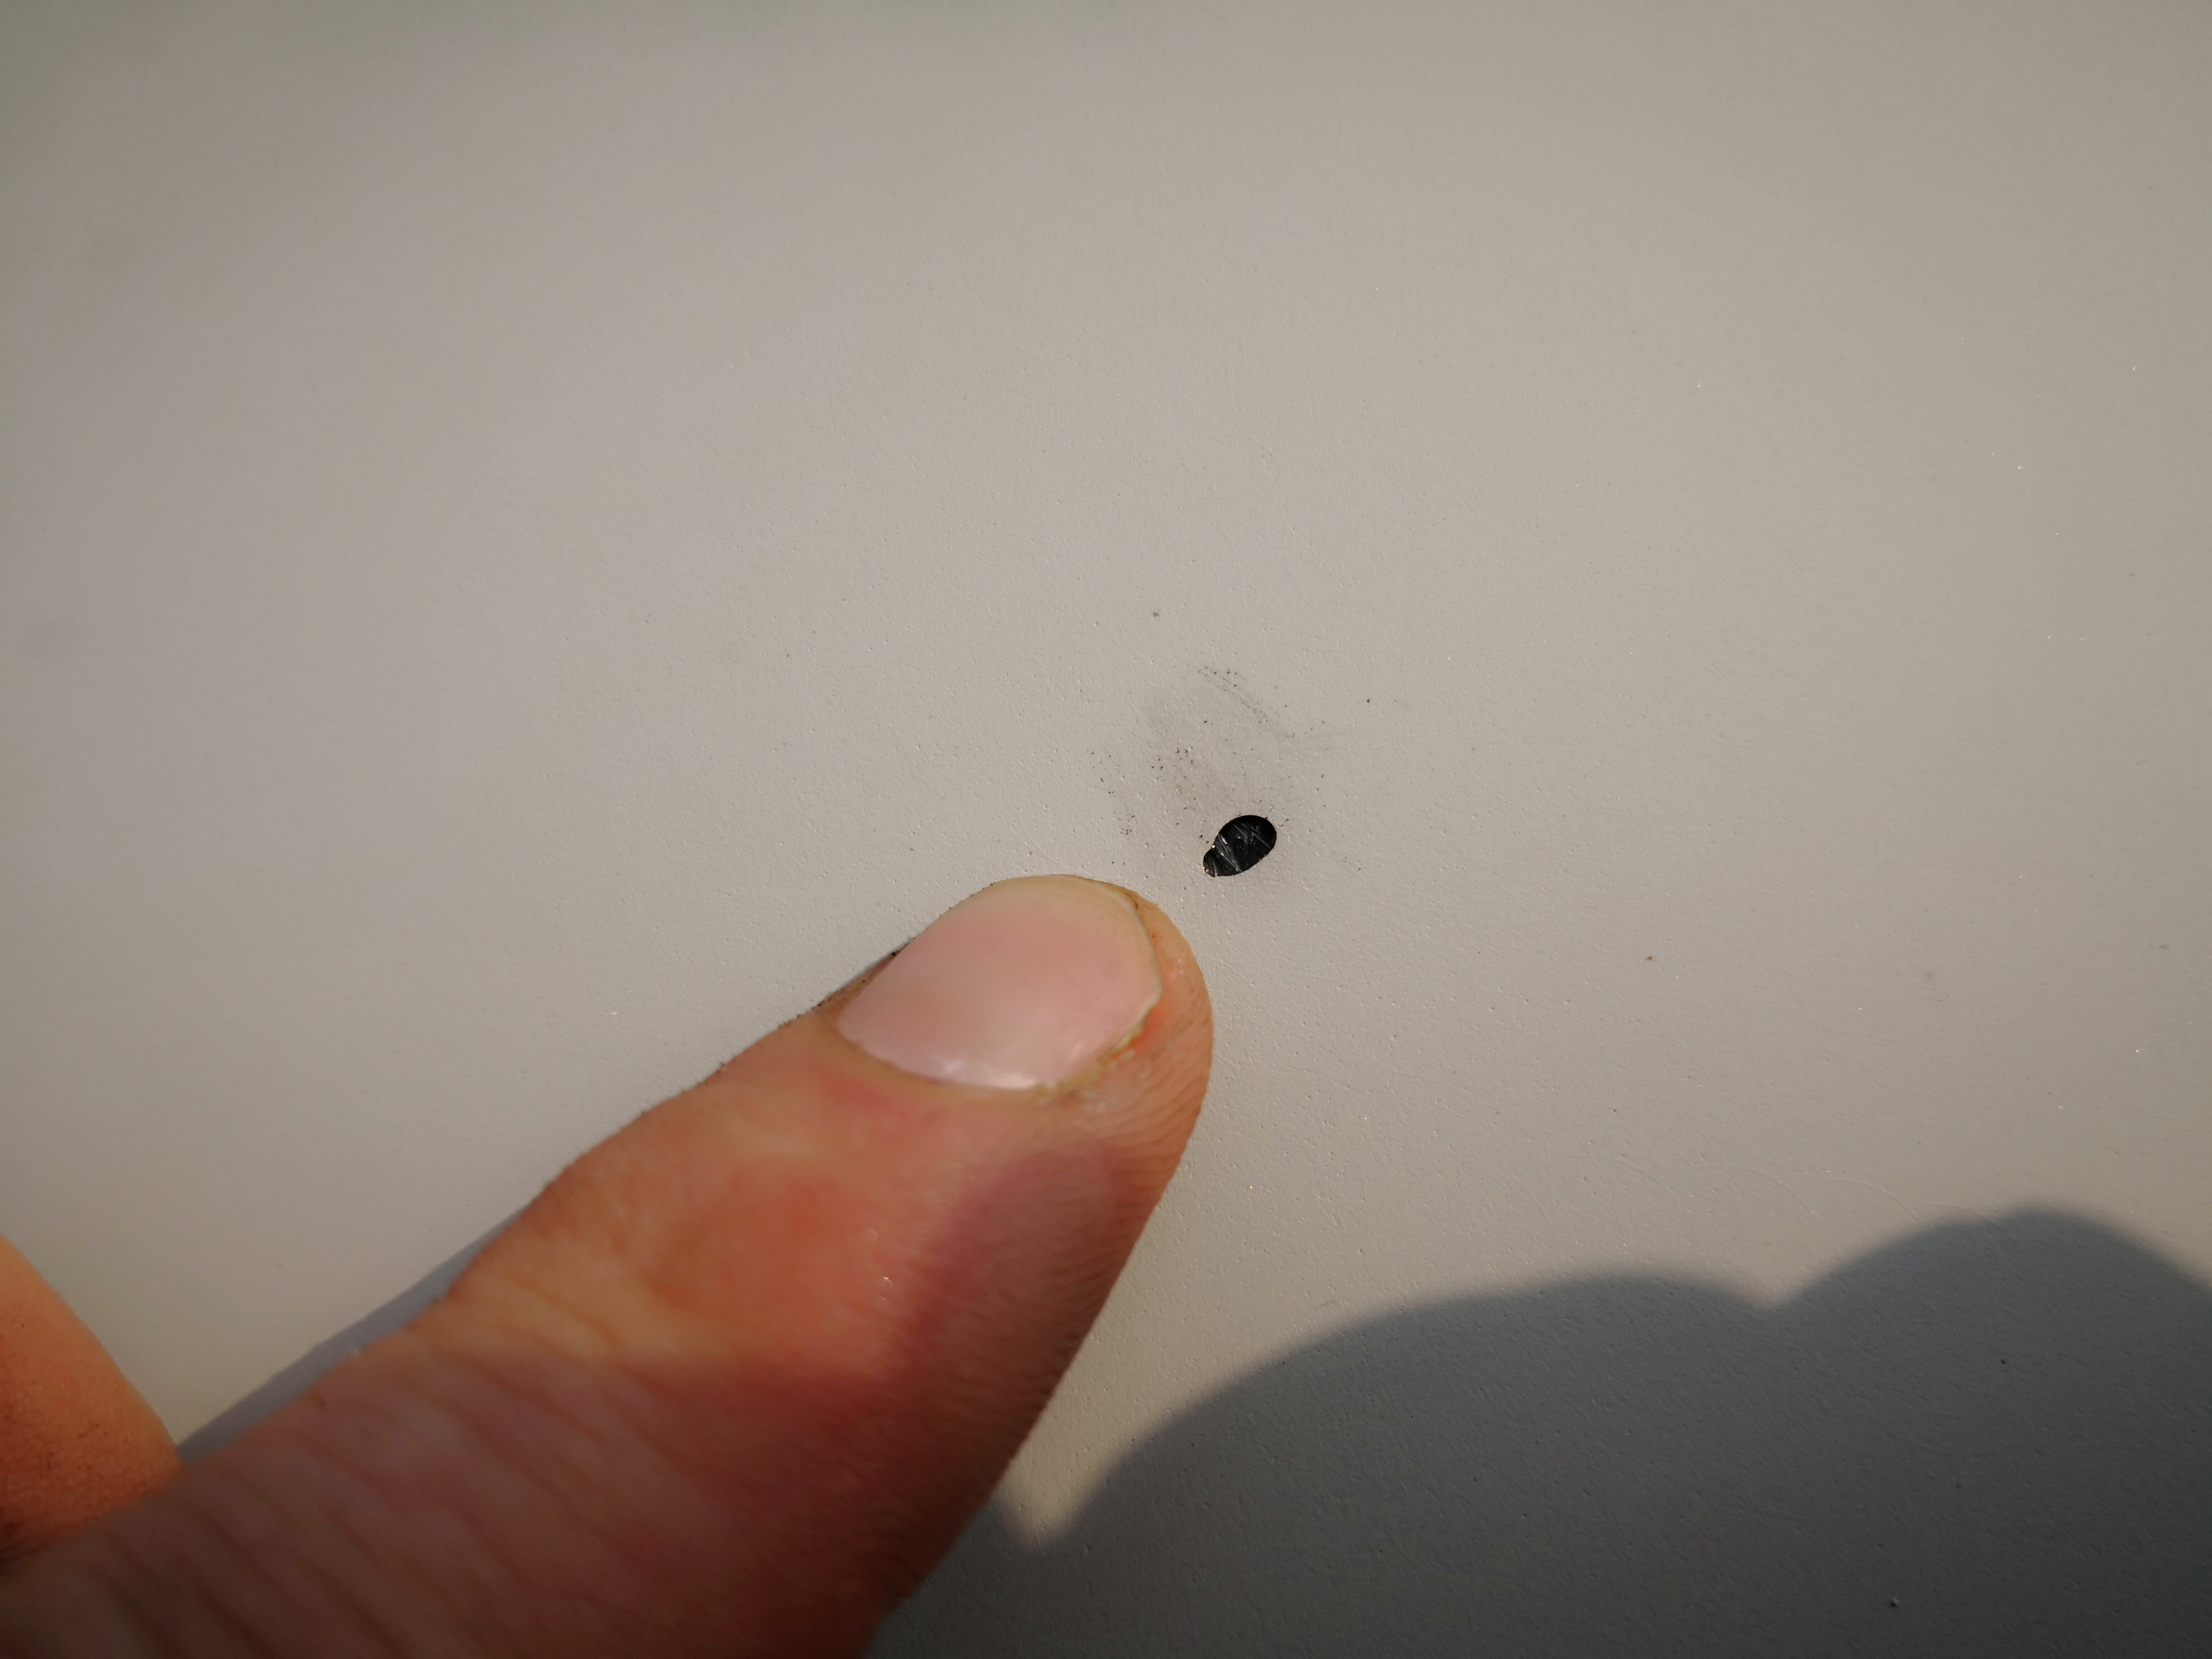SD: (1181, 782, 1296, 899)
